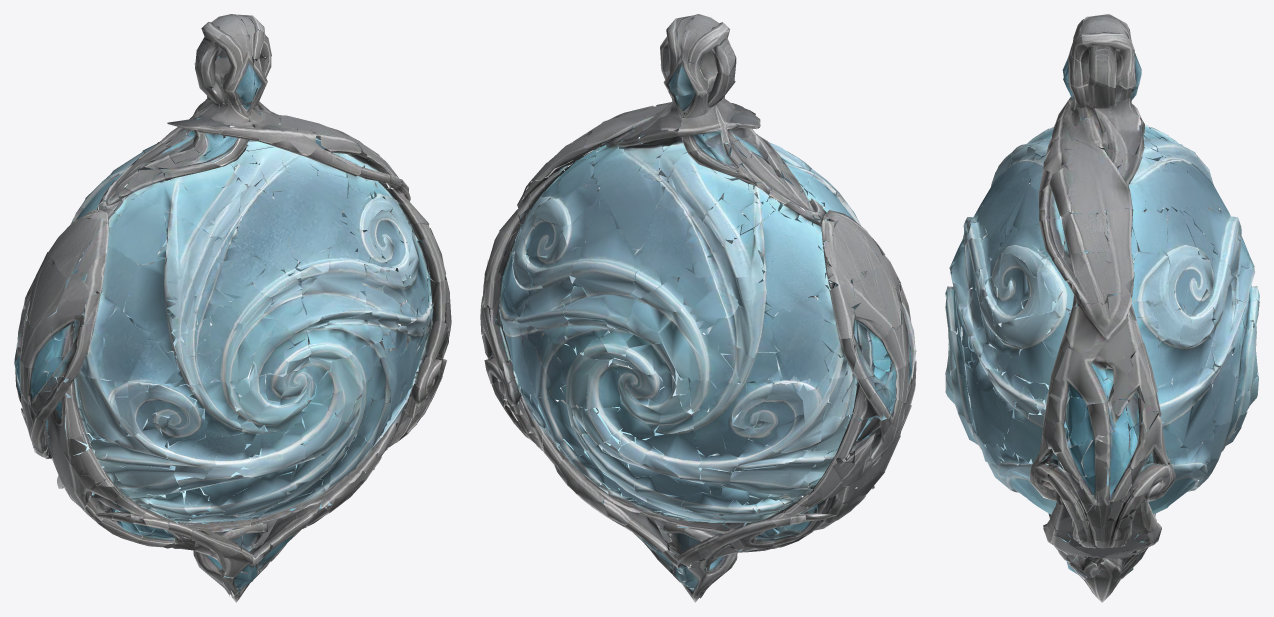
File: talisman-air.glb
3 renders of one model, left to right at view 1: azimuth 30°, elevation 25°; view 2: azimuth 150°, elevation 25°; view 3: azimuth 270°, elevation 25°, orthographic.
Parts seen in each view (by area): view 1: Mesh_0; view 2: Mesh_0; view 3: Mesh_0.
Boxes of the visible parts, x1,y1,x2,y2 form: Mesh_0: (14, 14, 451, 602); Mesh_0: (480, 14, 916, 602); Mesh_0: (945, 14, 1259, 602).
Bounding box in the file's own units: 1.43 × 1.91 × 0.9345.
Materials: 1 (1 with a texture image).
